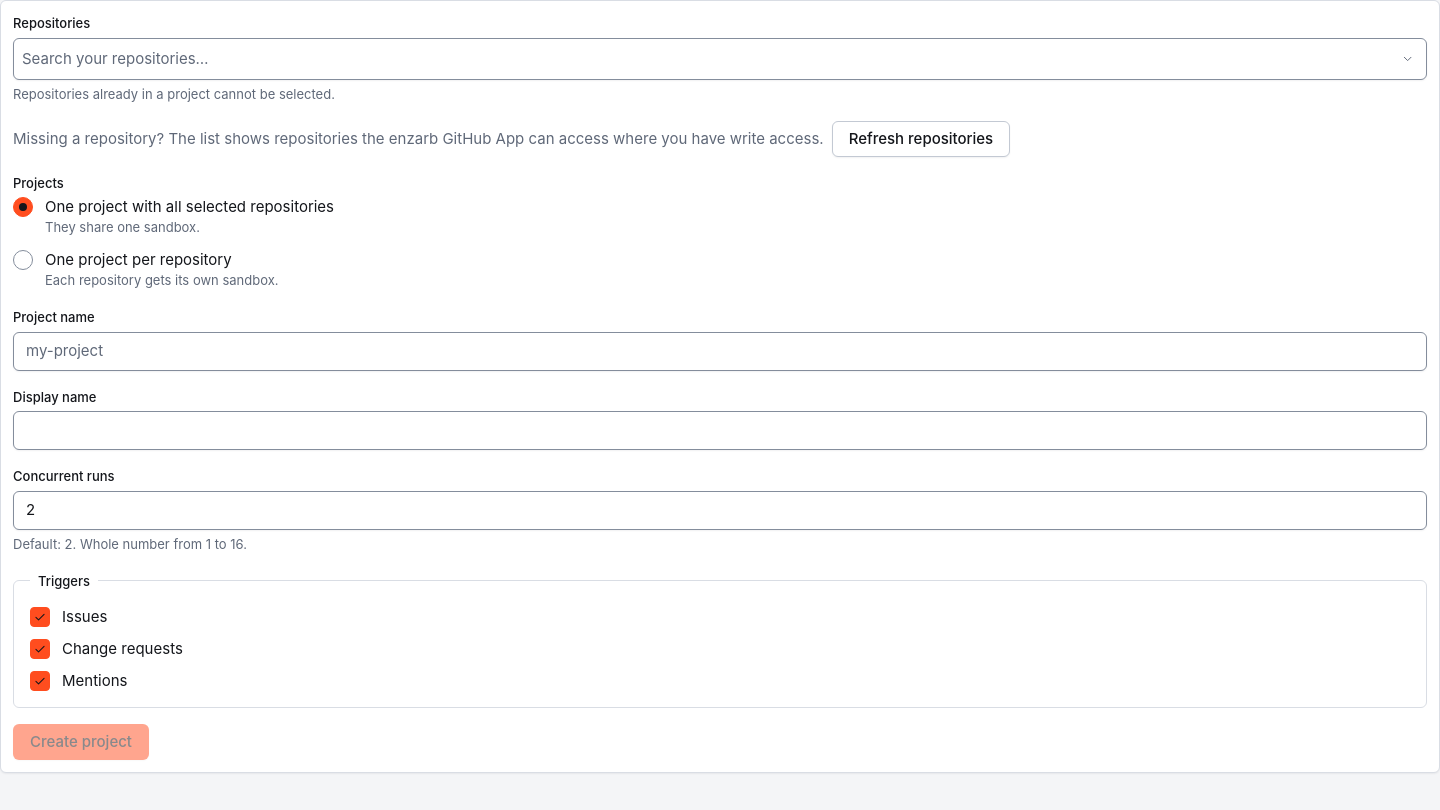
Scenario: NewProjectForm › keeps the form and selections and shows reasons when every project failed
This screenshot has width=1440, height=810.
Click the dropdown labelled "Repositories": coordinates (707, 59) top-left (22, 43), bottom-right (1393, 75)
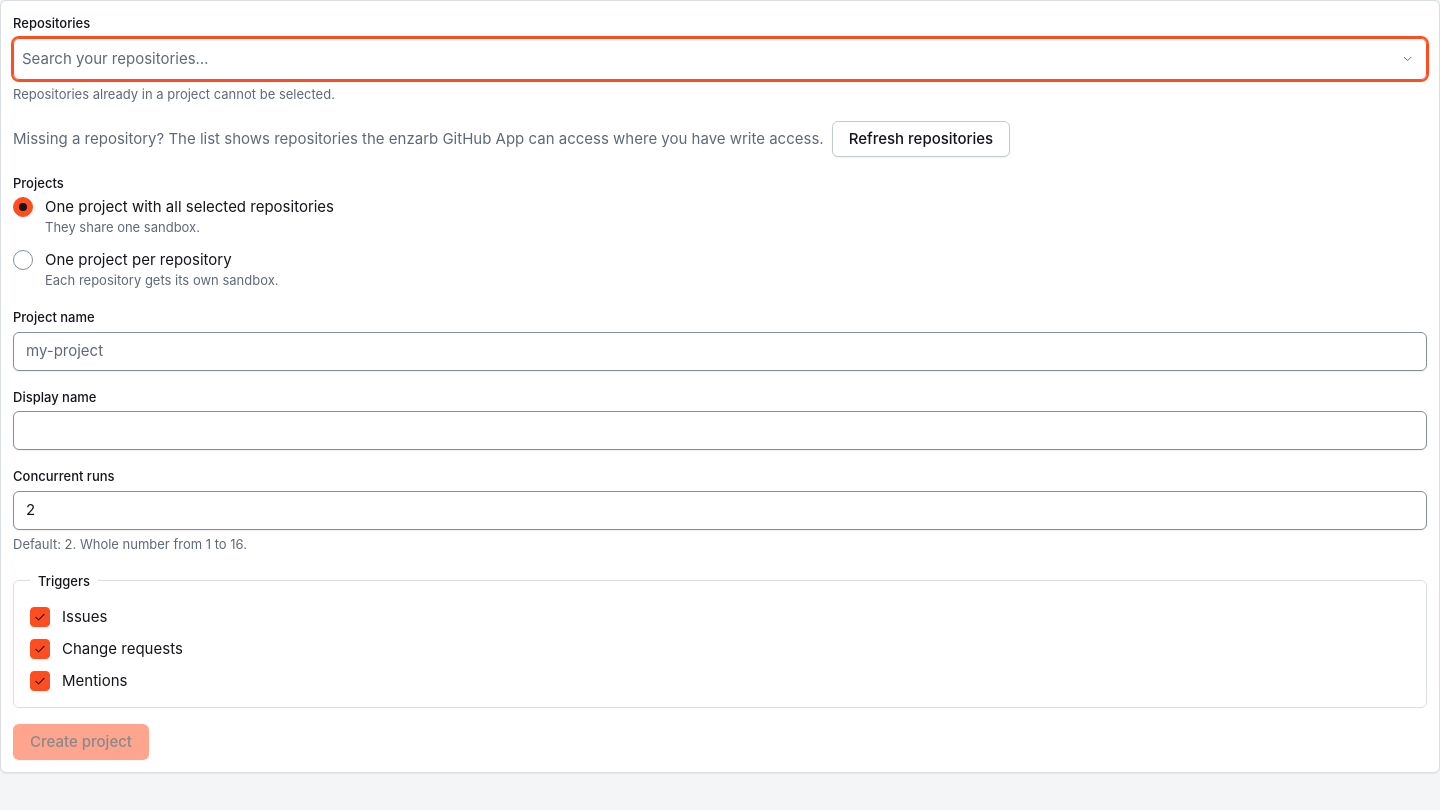
Press Arrowdown
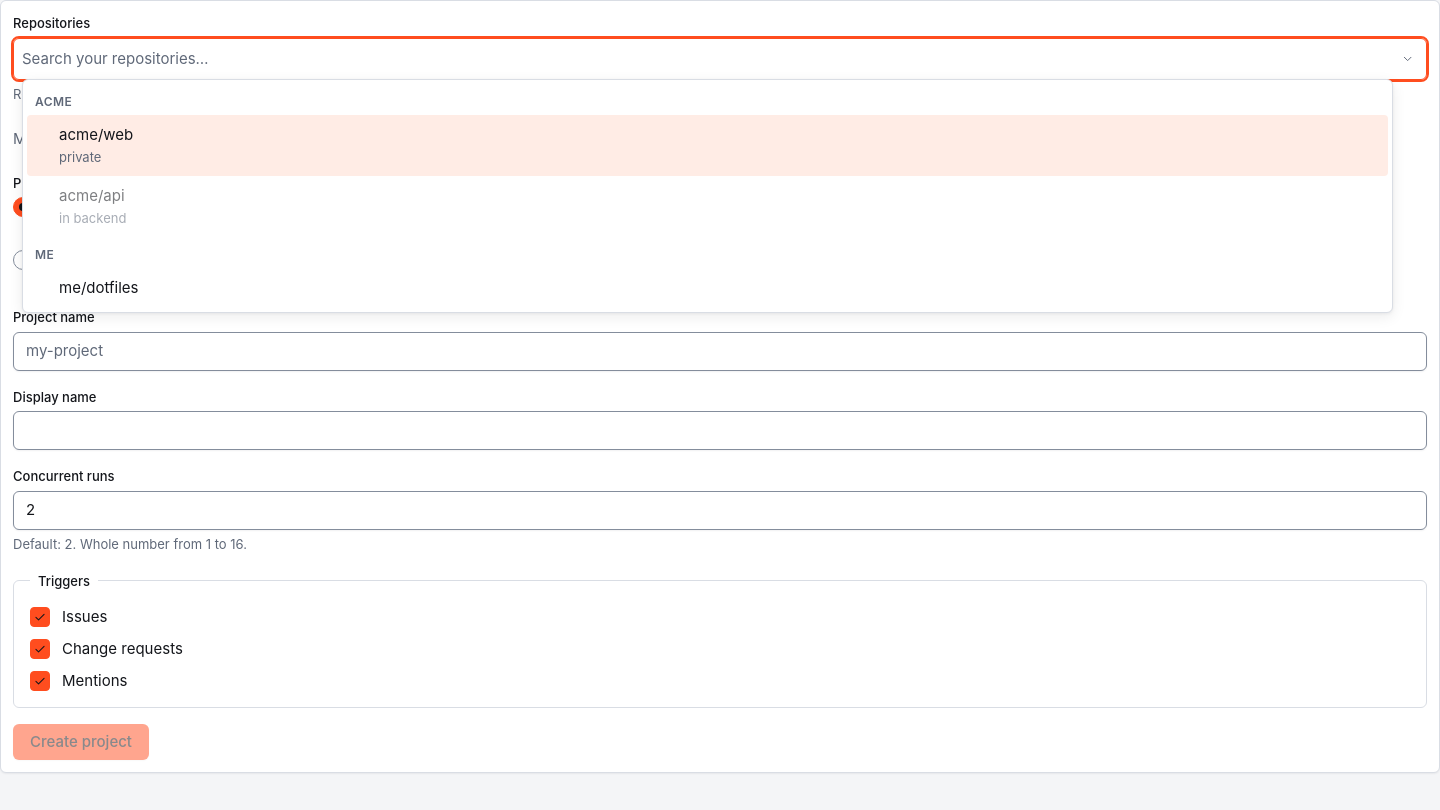
Click the option "acme/web private": coordinates (96, 135) top-left (27, 115), bottom-right (1388, 176)
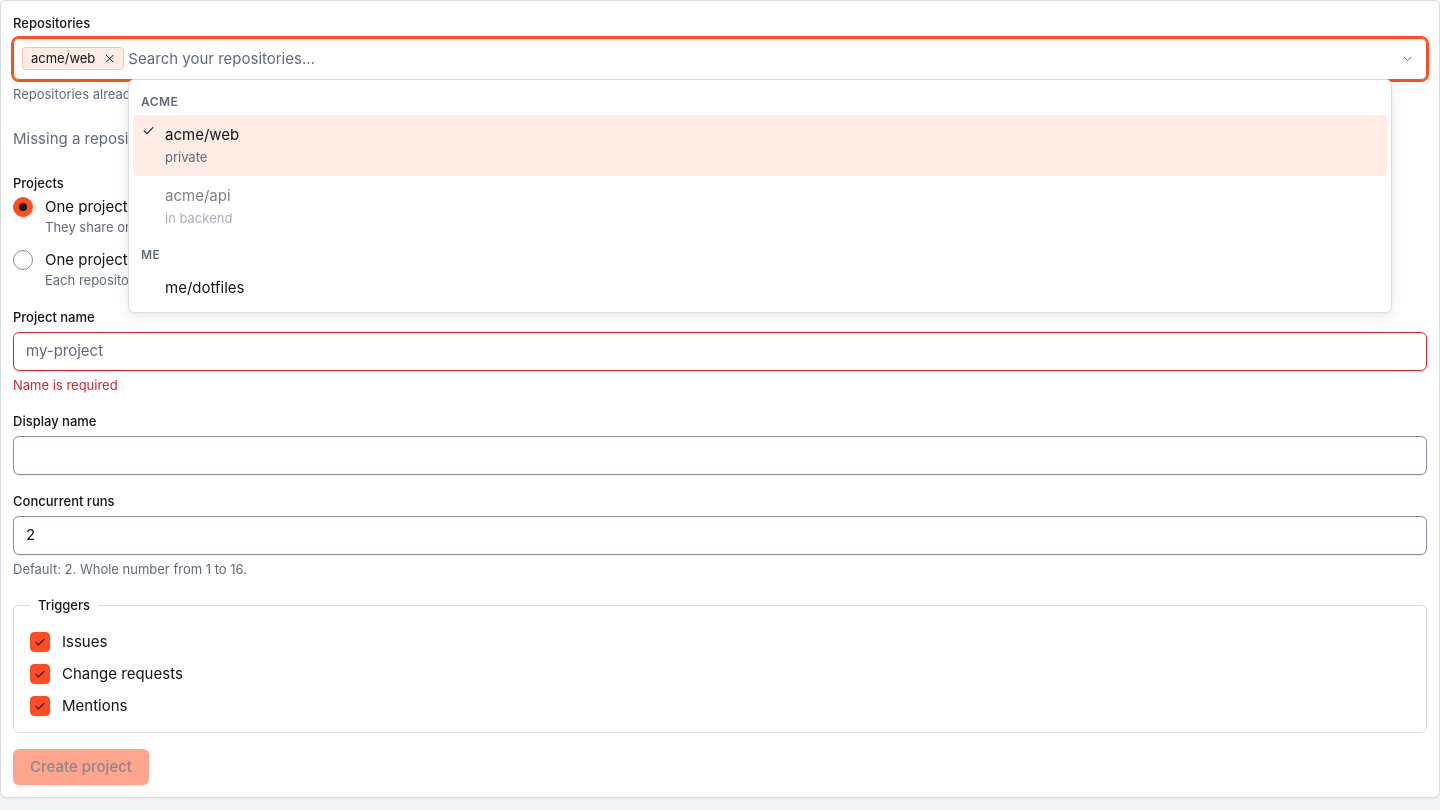
Press Escape
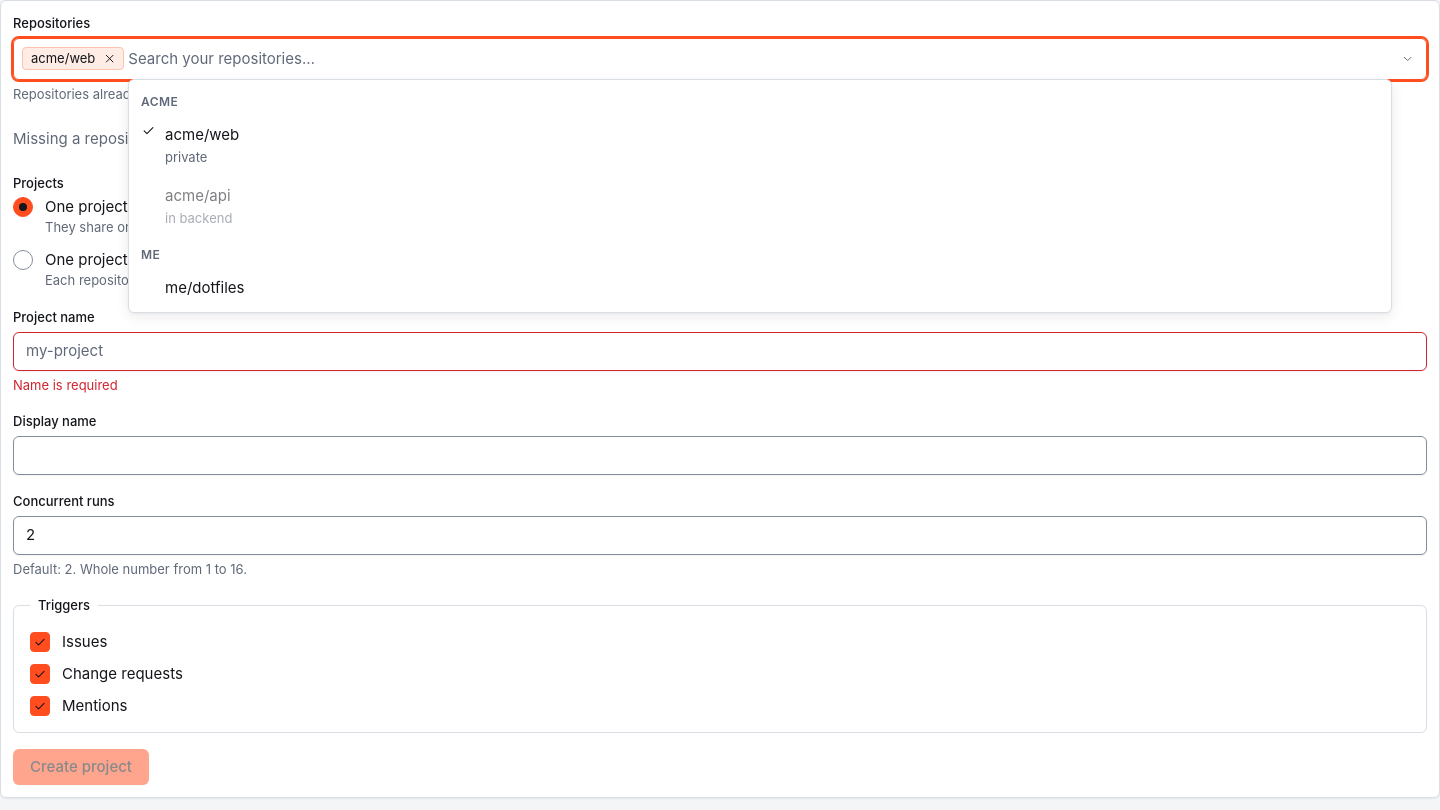
In the field labelled "Project name": coordinates (720, 351) top-left (13, 332), bottom-right (1427, 371), type "x"
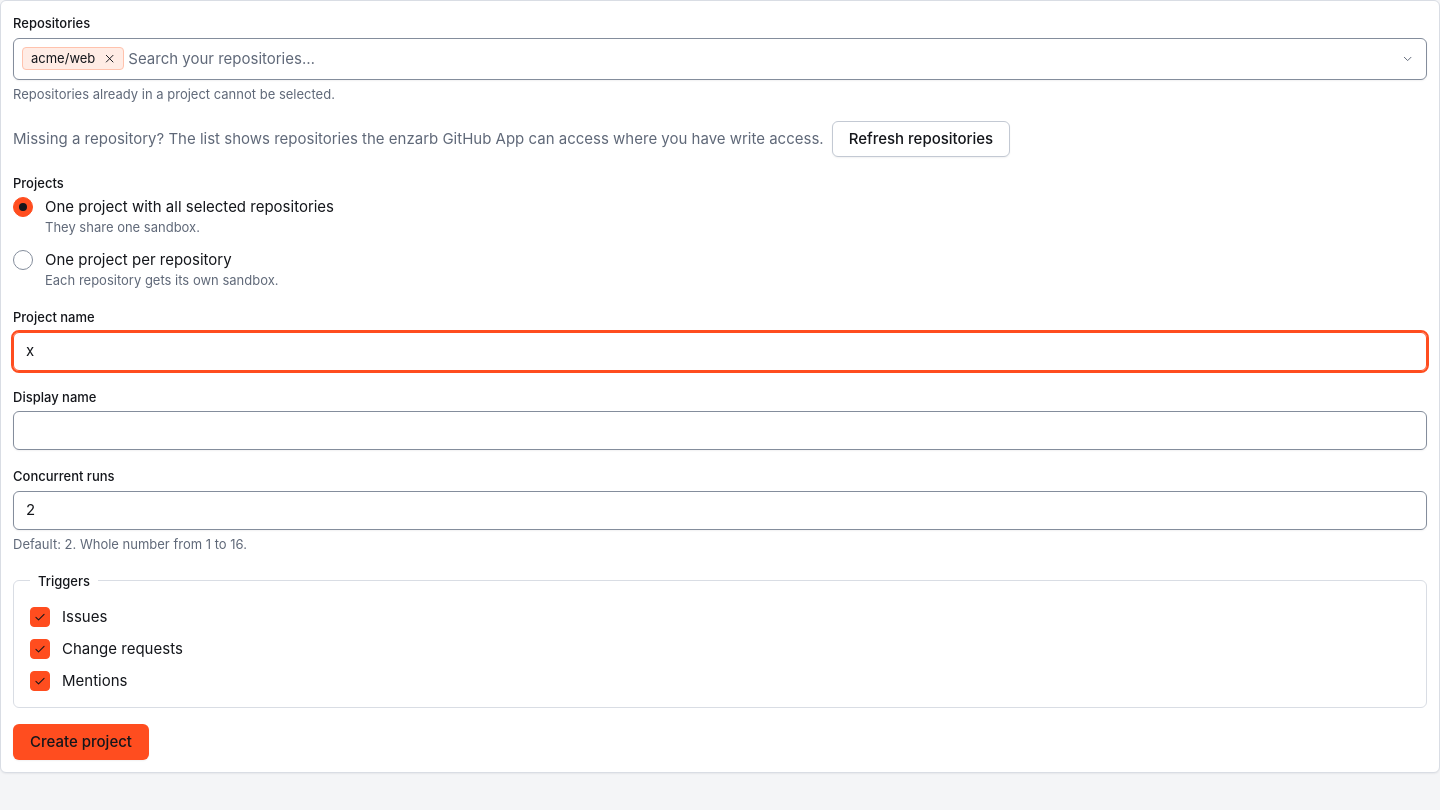
Click the button "Create project": coordinates (81, 742) top-left (13, 724), bottom-right (149, 760)
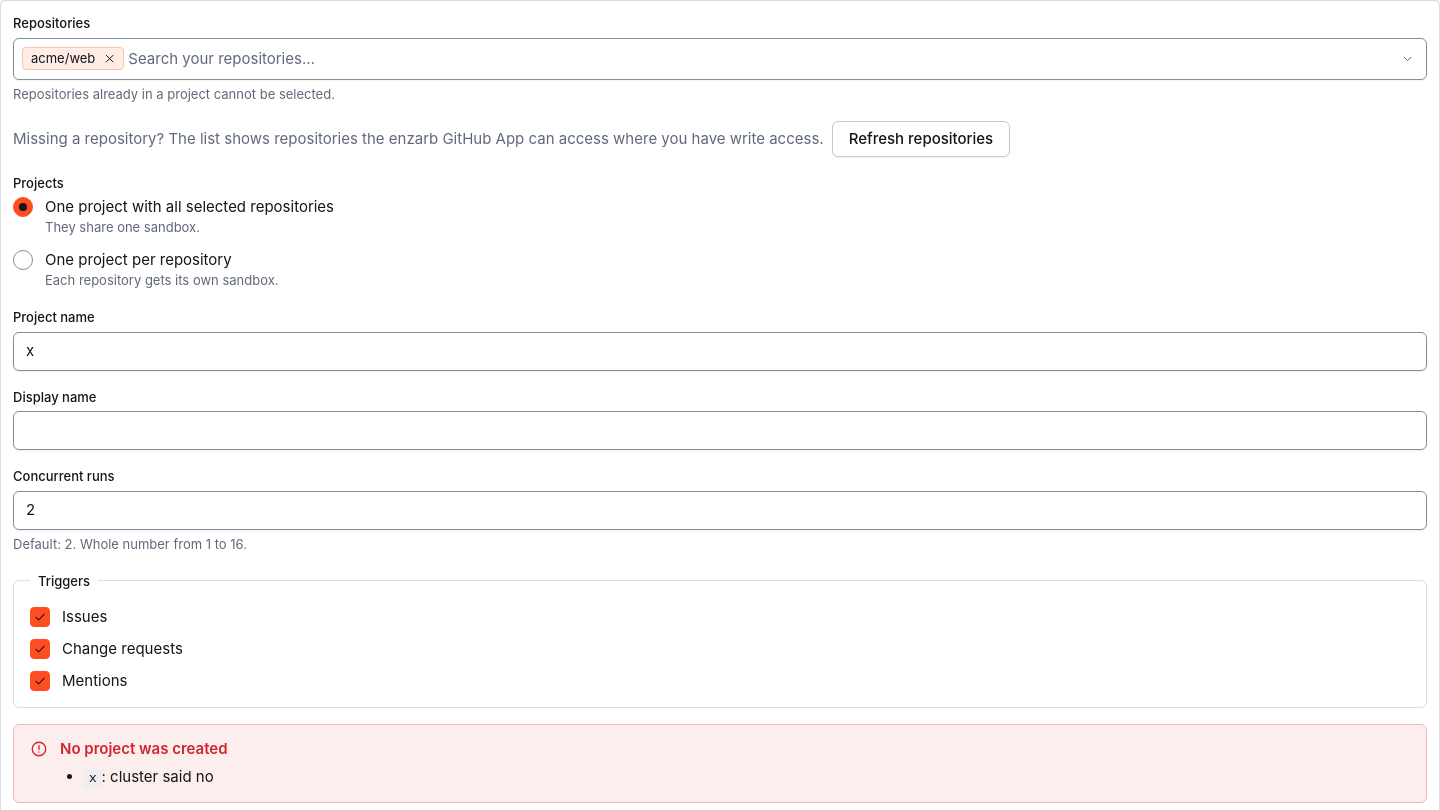
Check: the message shows "cluster said no", box top-left (102, 767), bottom-right (214, 786)
